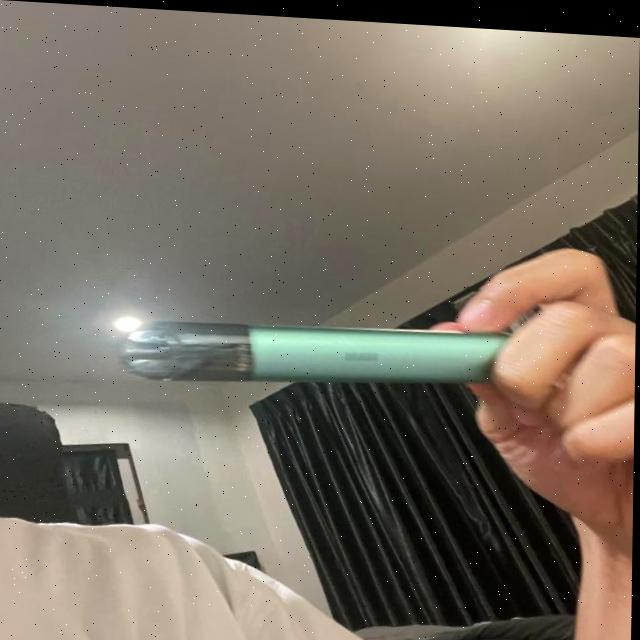vape: (122, 310, 508, 394)
